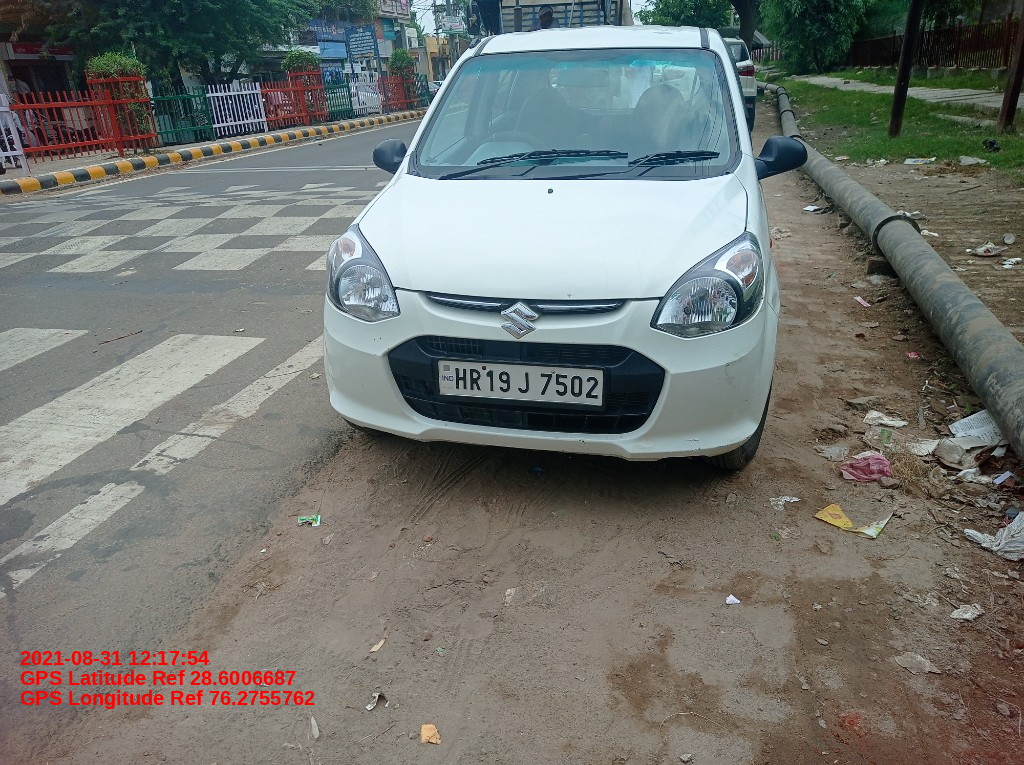Scratched: (724, 349, 749, 388), (557, 434, 593, 458), (717, 433, 754, 453), (371, 334, 393, 356), (686, 434, 704, 456), (563, 289, 581, 301), (741, 395, 753, 409)
